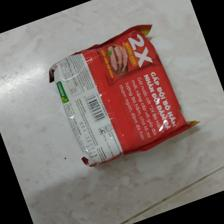3mien: (47, 22, 199, 168)
